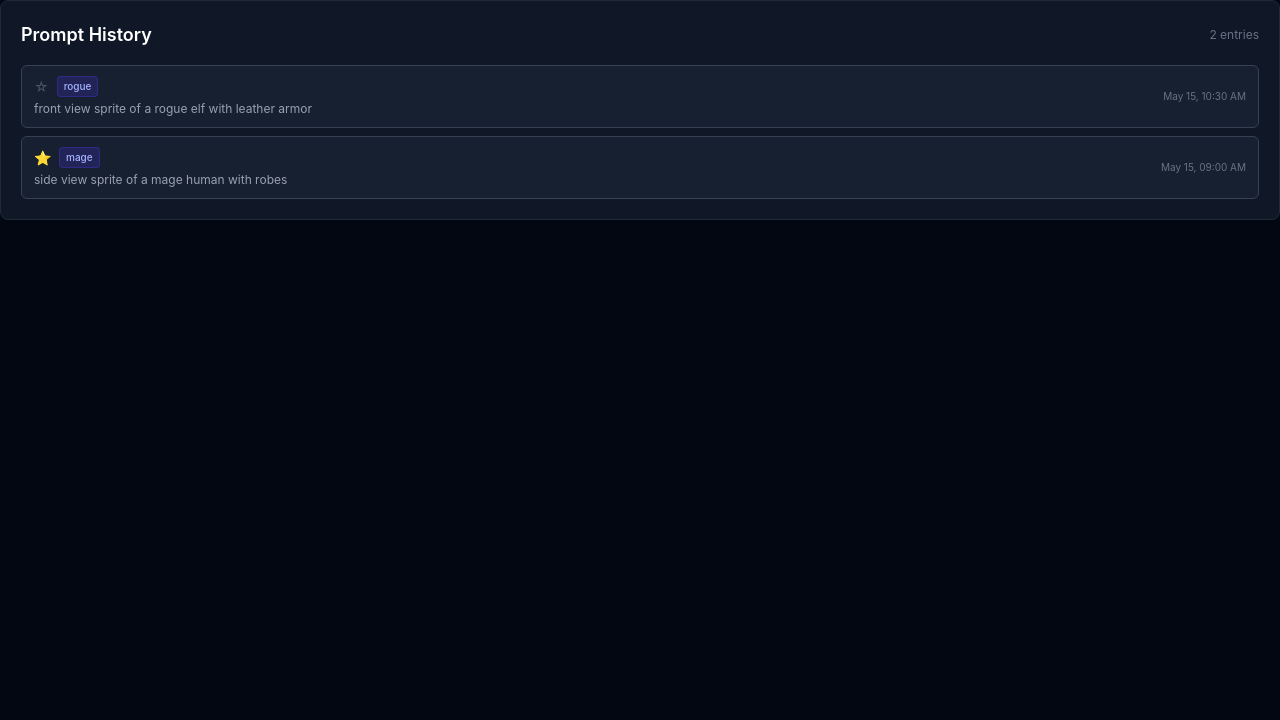
PromptHistory › expands entry to show full prompts on click
Note: Click on the first history item summary row
Click the text "front view sprite of a rogue elf with leather armor".
click(173, 108)  # box [34,101,312,116]
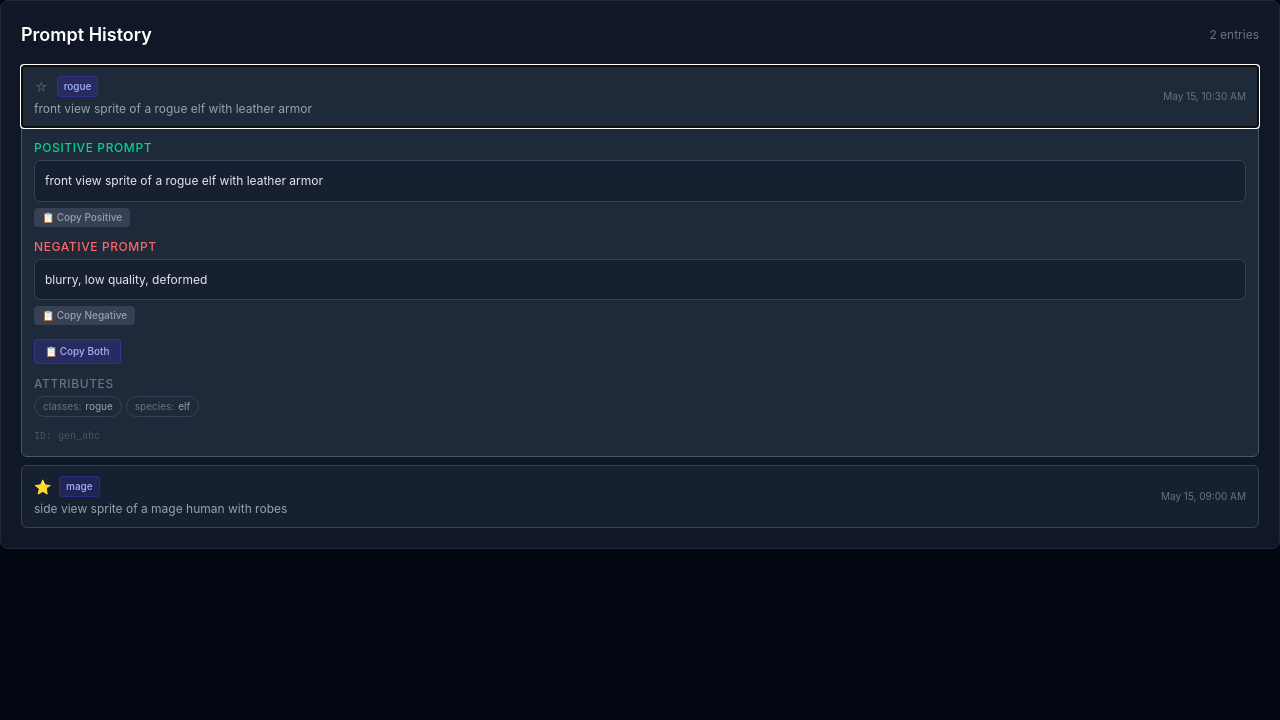
Check: the text "Positive Prompt" is shown, box [34,140,152,155]
Check: the text "Negative Prompt" is shown, box [34,238,157,254]
